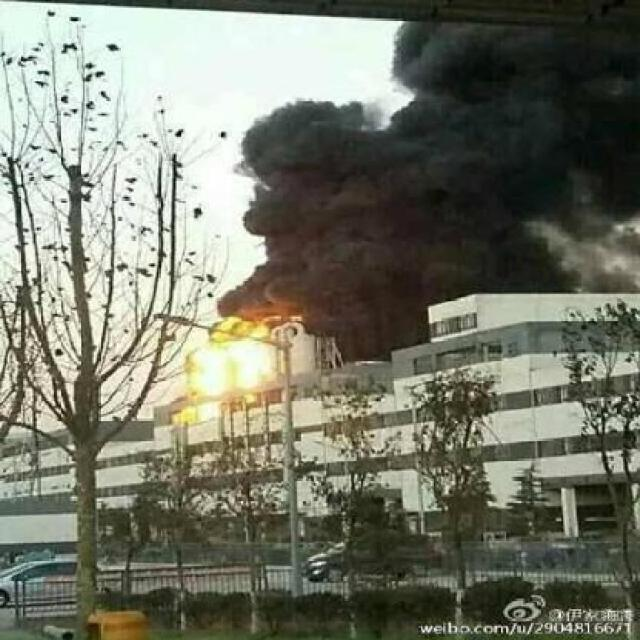Fire: (191, 341, 274, 396)
Smoke: (248, 12, 636, 337)
